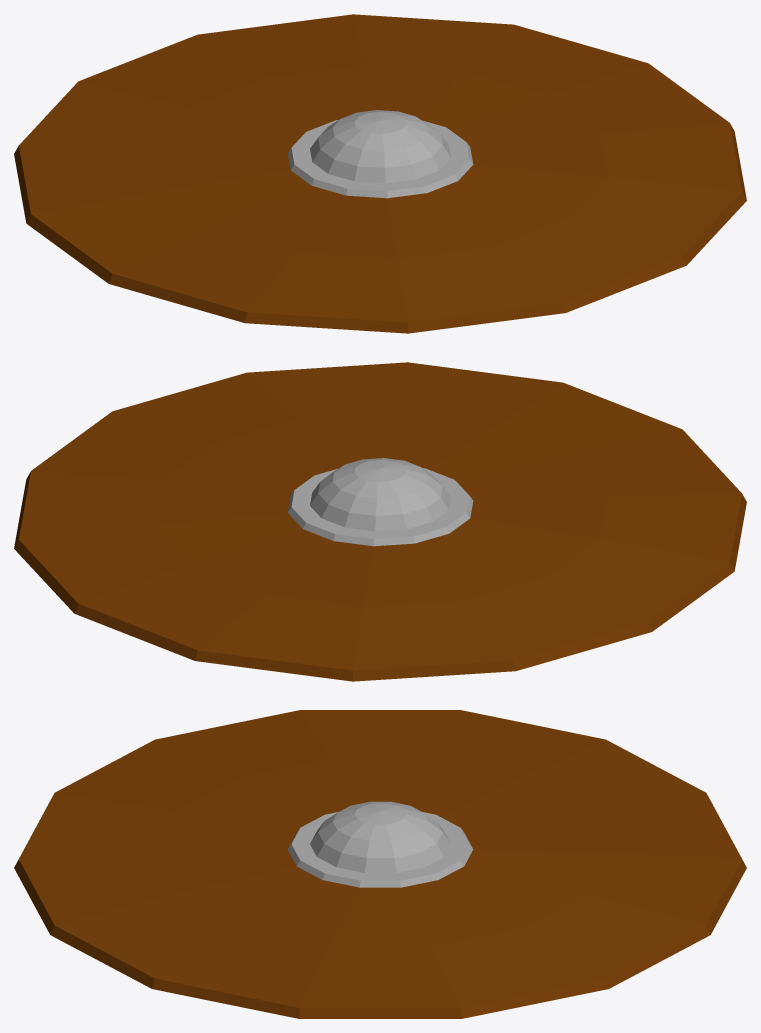
File: RoundShield.fbx
The picture shows the model from 3 angles, top to bottom: view 1: azimuth 30°, elevation 25°; view 2: azimuth 150°, elevation 25°; view 3: azimuth 270°, elevation 25°; orthographic projection.
Visible parts, largest first — view 1: Circle.005; view 2: Circle.005; view 3: Circle.005.
Part boxes in pixels (x1,y1,x2,y2): Circle.005: (14, 14, 746, 333); Circle.005: (14, 362, 746, 681); Circle.005: (14, 710, 746, 1018).
Bounding box in the file's own units: 17.21 × 2.5 × 17.65.
